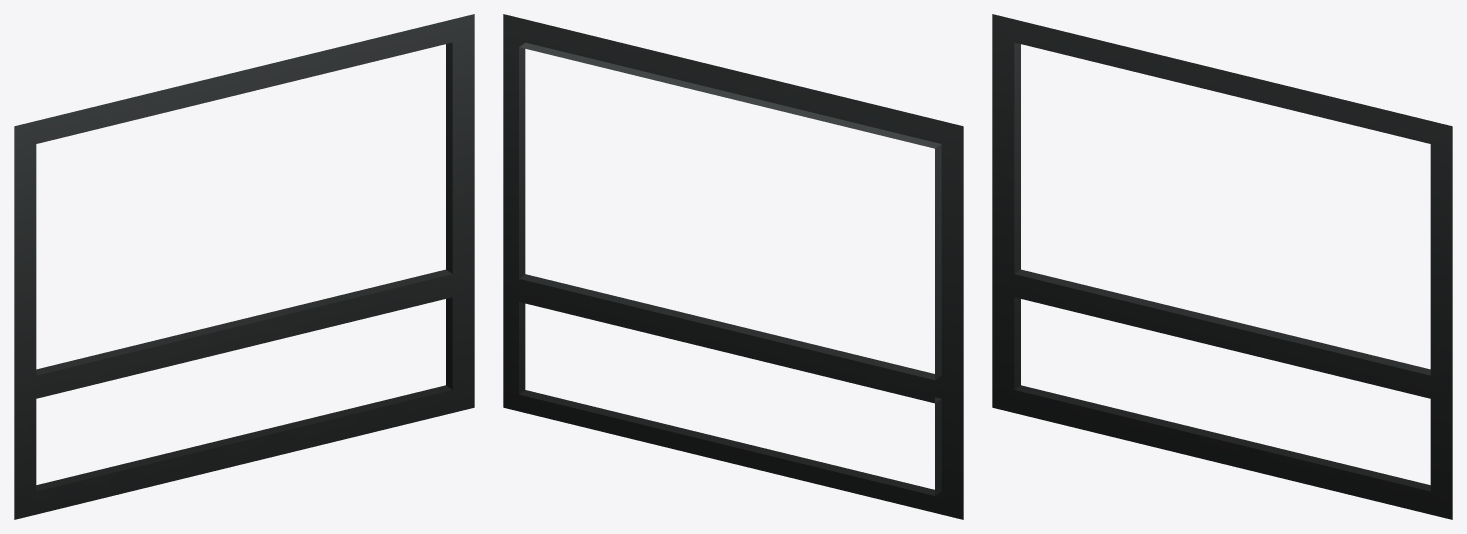
File: Wall_3m_A_Window_B_Frame_D.fbx
3 views of the same model, side by side, from view 1: azimuth 30°, elevation 25°; view 2: azimuth 150°, elevation 25°; view 3: azimuth 330°, elevation 25° (orthographic).
Visible parts, largest first — view 1: Wall_3m_A_Window_B_Frame_D; view 2: Wall_3m_A_Window_B_Frame_D; view 3: Wall_3m_A_Window_B_Frame_D.
Part boxes in pixels (left/top/right/bottom): Wall_3m_A_Window_B_Frame_D: left=14, top=14, right=474, bottom=519; Wall_3m_A_Window_B_Frame_D: left=503, top=14, right=963, bottom=519; Wall_3m_A_Window_B_Frame_D: left=992, top=14, right=1452, bottom=519.
Size of the model in its own units: 208 by 170 by 5.
